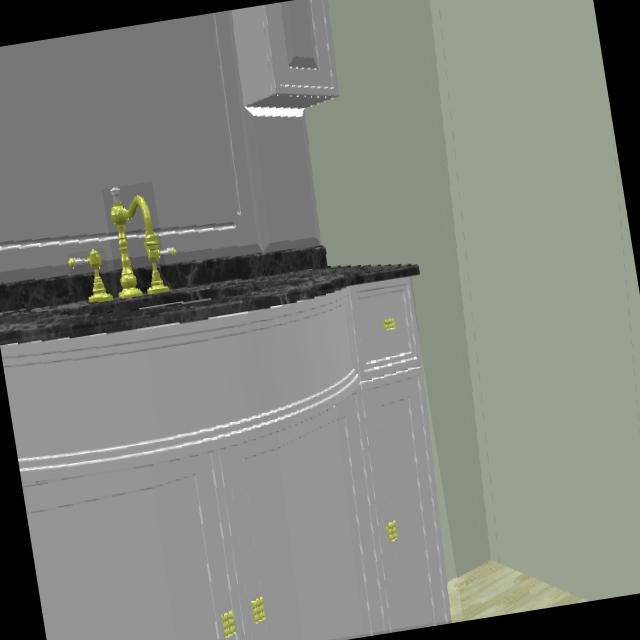cabinet: (0, 277, 450, 640)
washbasin: (111, 188, 169, 299), (69, 250, 113, 303)
